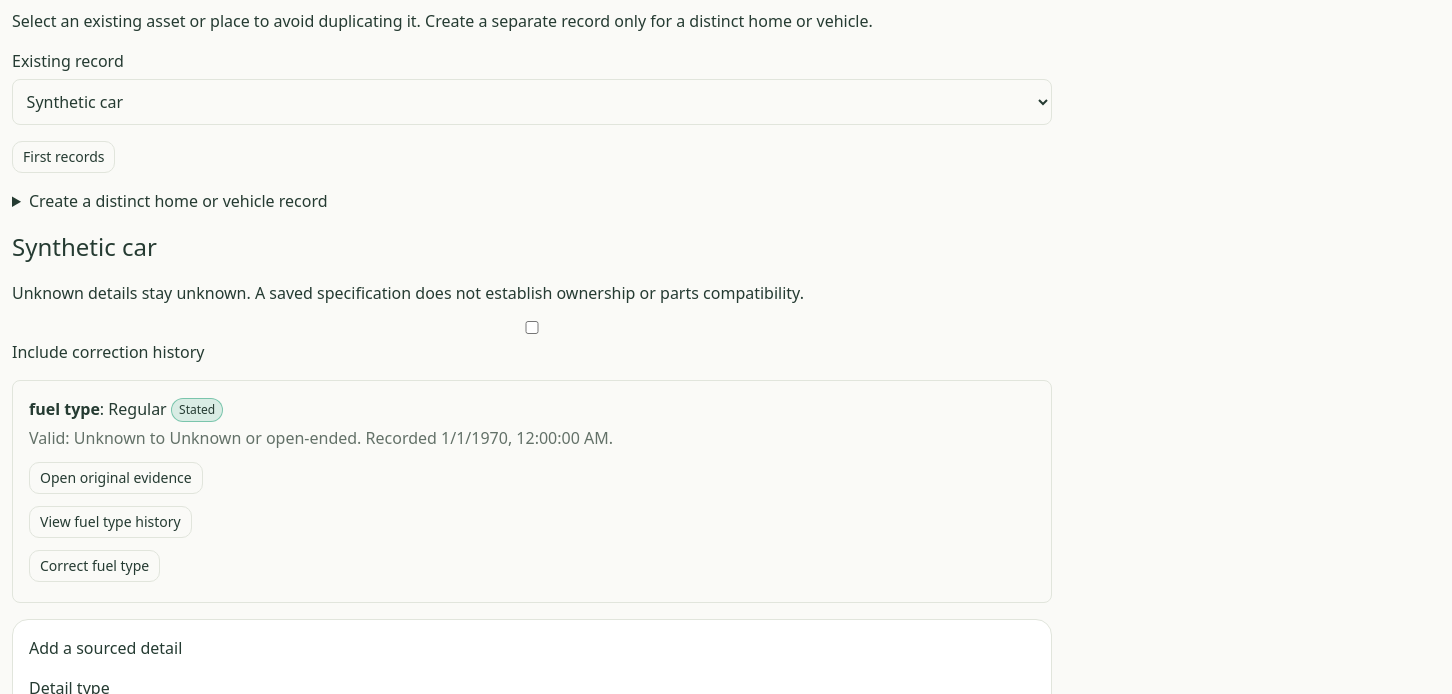
Scenario: locks the custom name during correction and safely retries the same request
Expected: the heading "Synthetic car" is shown, [12, 230, 157, 263]
Click the button "Correct fuel type" at (95, 566), box [29, 550, 160, 582]
(page scrolled)
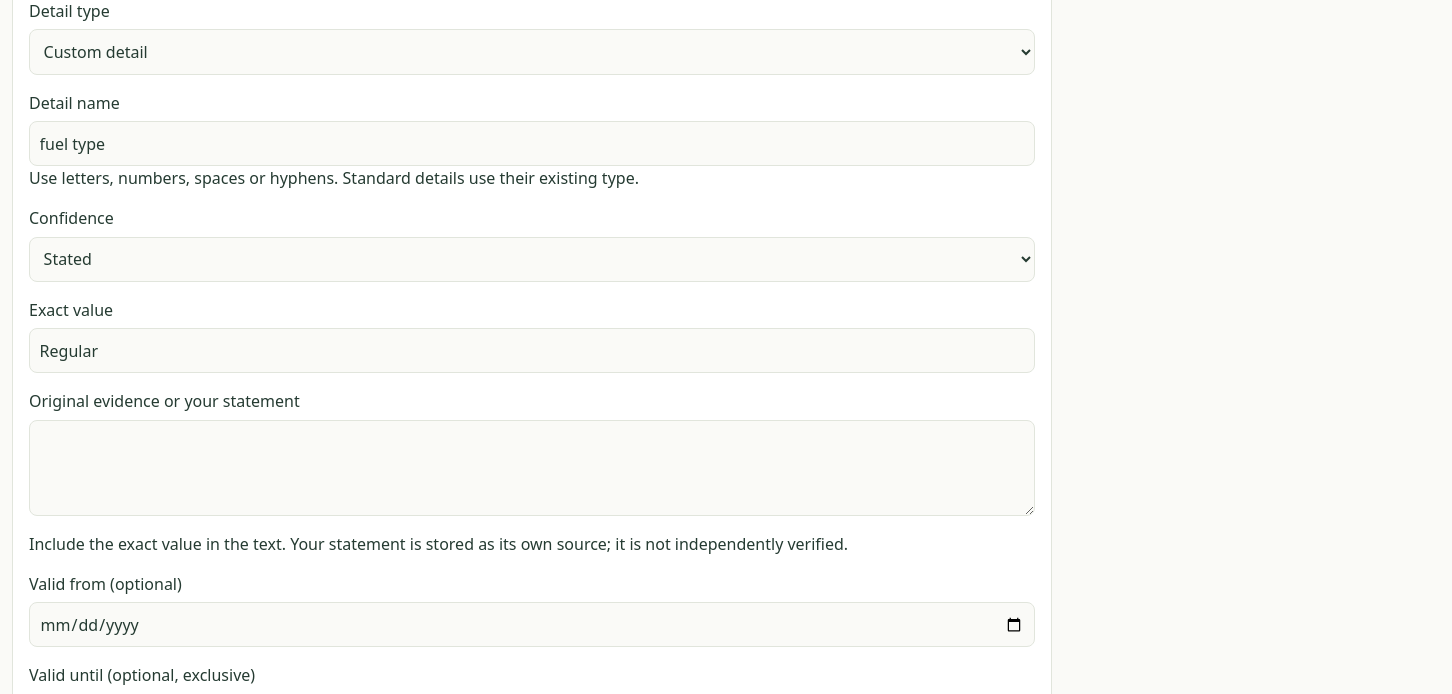
Expected: the dropdown labelled "Detail type" is disabled, [29, 29, 1035, 75]
Expected: the field labelled "Detail name" is disabled, [29, 121, 1035, 166]
Expected: the field labelled "Detail name" holds "fuel type", [29, 121, 1035, 166]
Replace the text in the field labelled "Exact value" with "Premium" at (532, 351), box [29, 328, 1035, 373]
Type "Synthetic correction: Premium." into the text box labelled "Original evidence or your statement" at (532, 468), box [29, 420, 1035, 516]
(page scrolled)
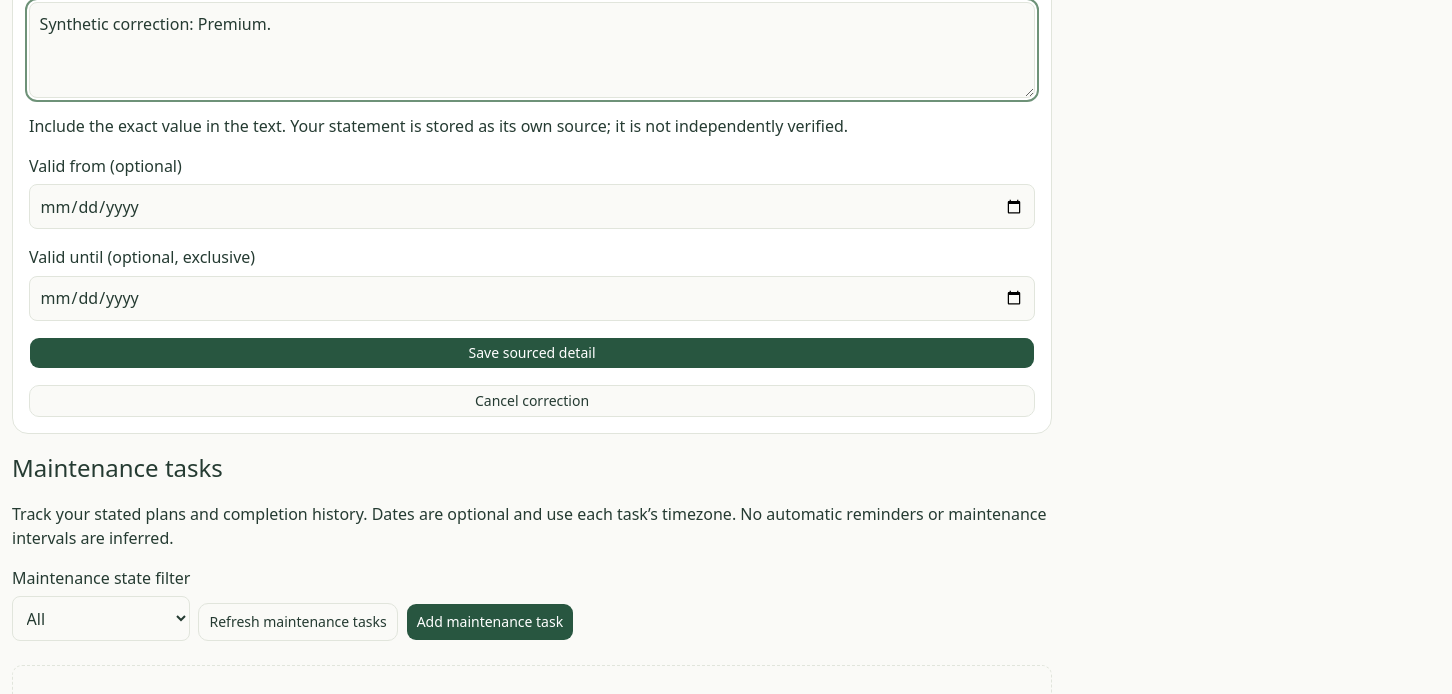
Click the button "Save sourced detail" at (532, 353), box [29, 337, 1035, 369]
(page scrolled)
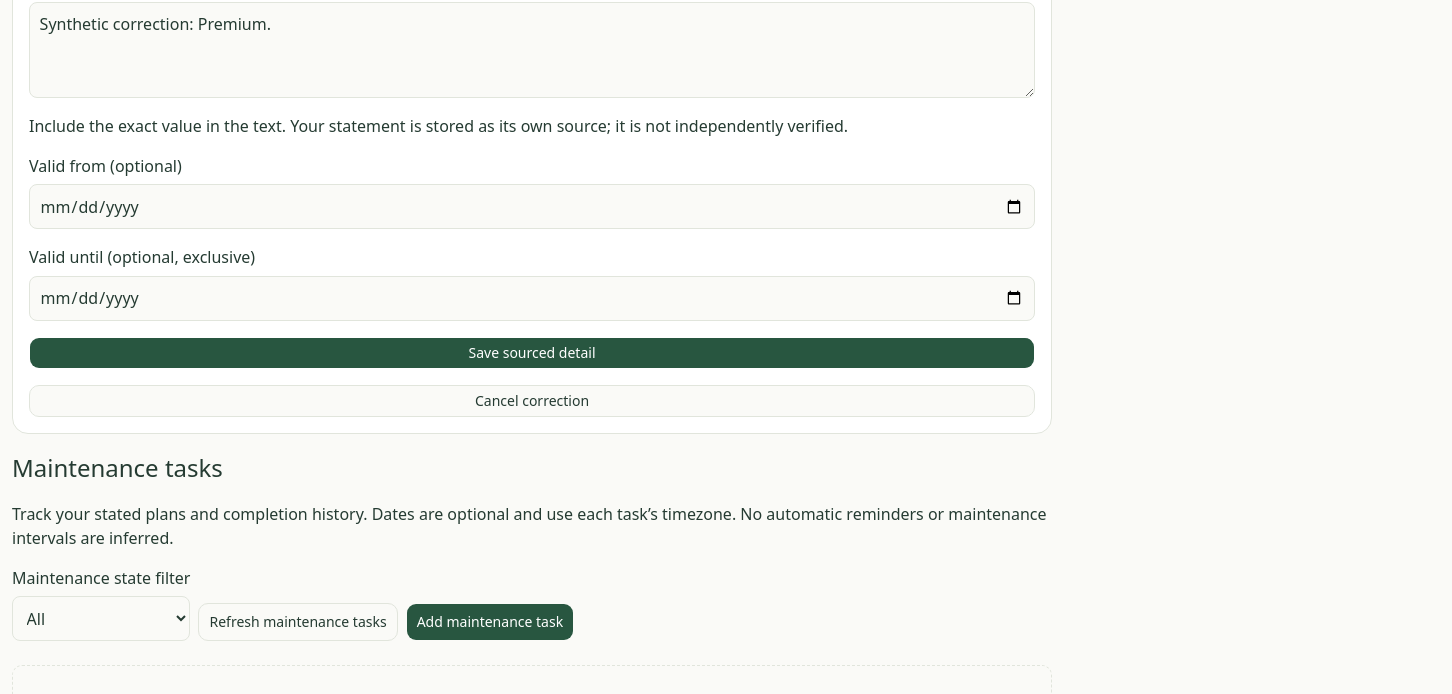
Click the button "Save sourced detail" at (532, 353), box [29, 337, 1035, 369]
(page scrolled)
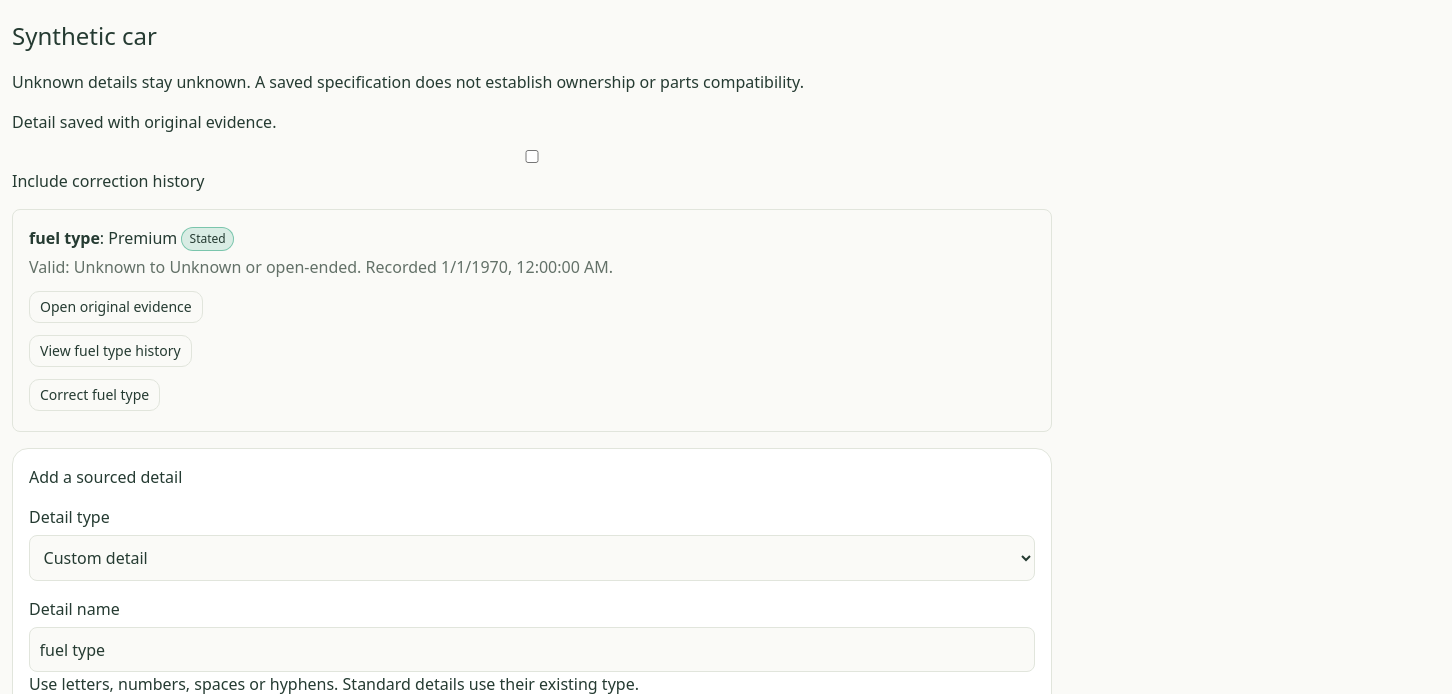
Expected: the text "Detail saved with original evidence." is shown, [12, 111, 276, 133]
Click the button "View fuel type history" at (110, 351), box [29, 335, 192, 367]
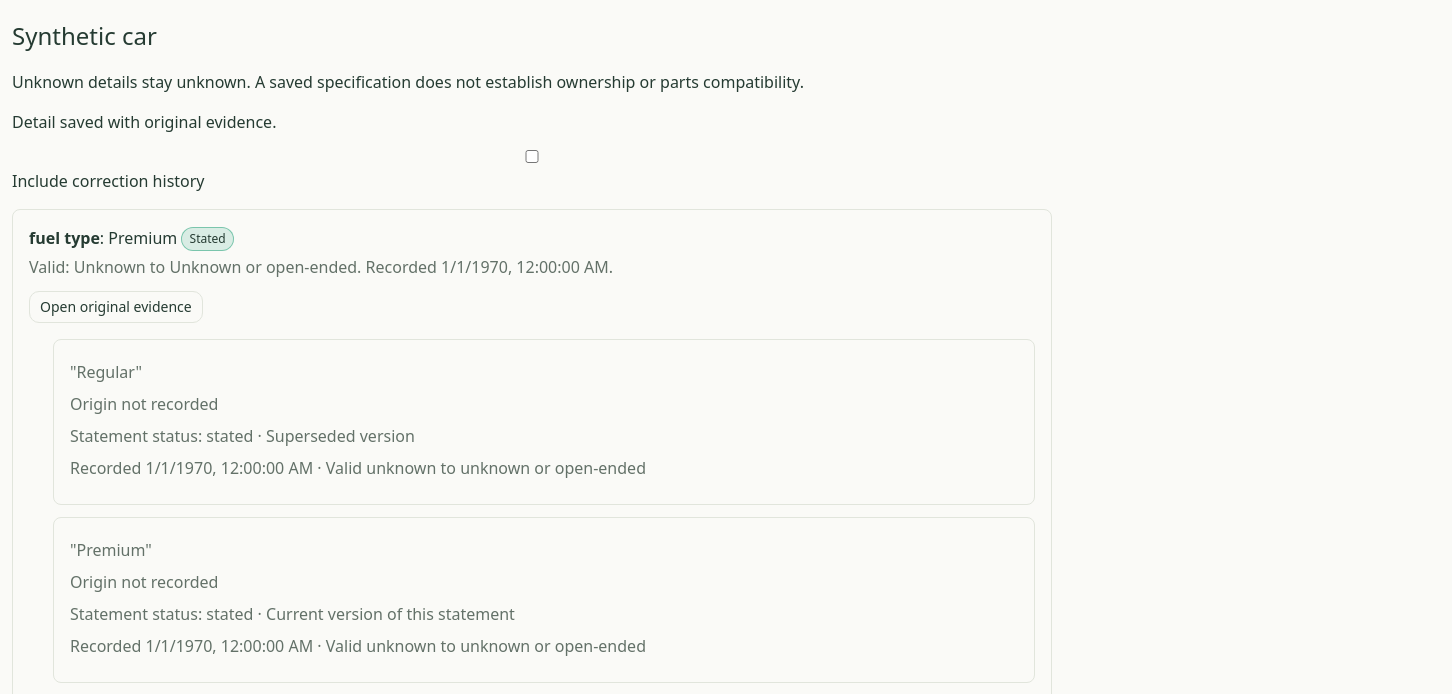
Expected: the element named "fuel type change history" is shown, [29, 339, 1035, 683]
Click the checkbox labelled "Include correction history" at (532, 156), box [12, 150, 1052, 163]
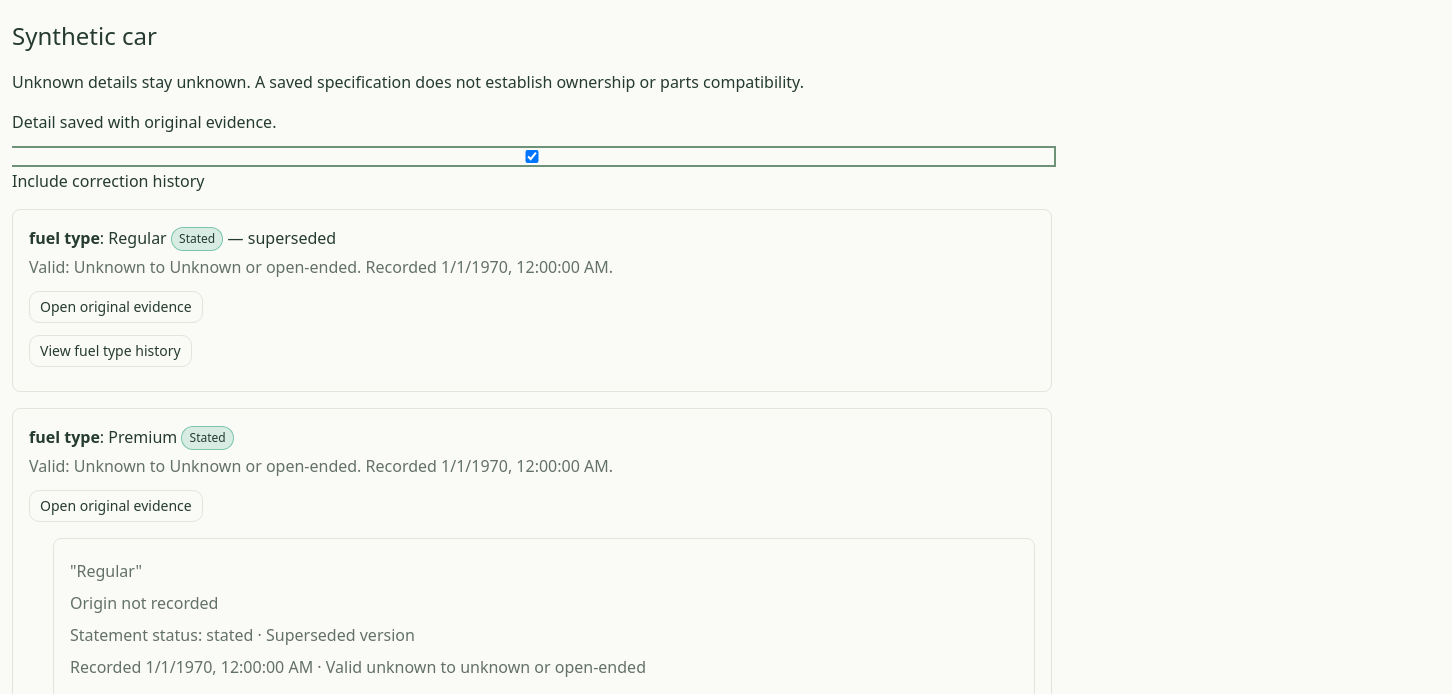
Expected: the text "— superseded" is shown, [228, 227, 336, 249]
